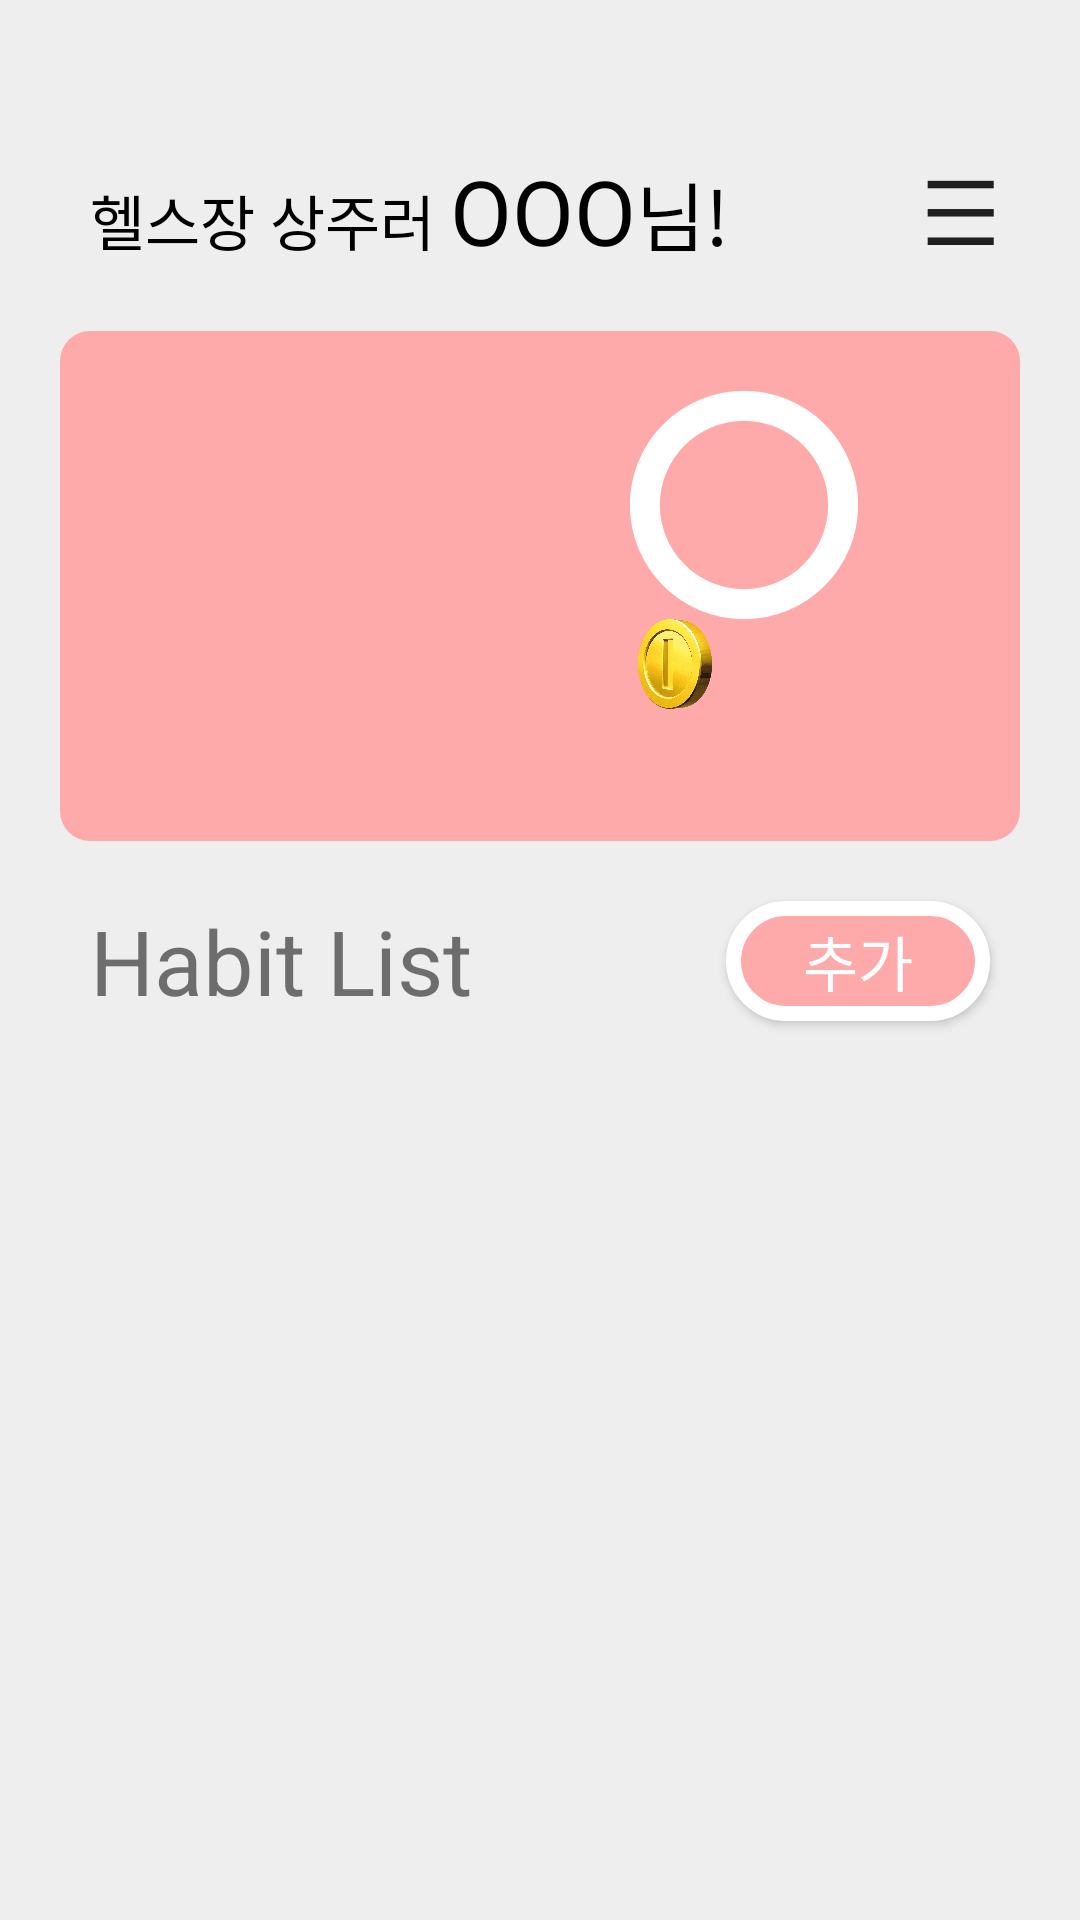

Where icons sit on this 1080px×1920px app screen, as (x1, y1, x2, y2):
coin: (638, 619, 712, 709)
